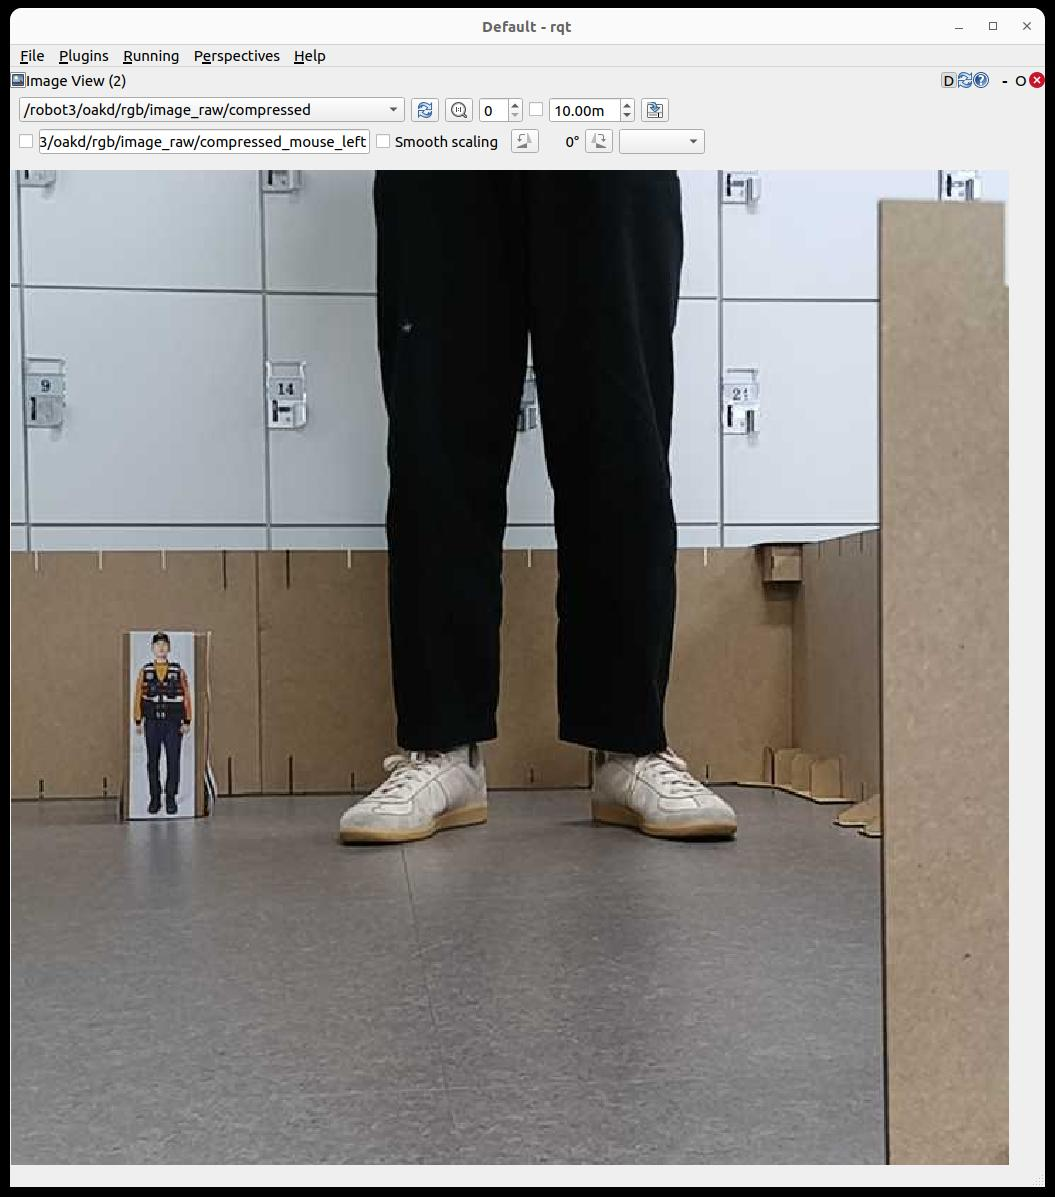Responder: (133, 634, 191, 813)
